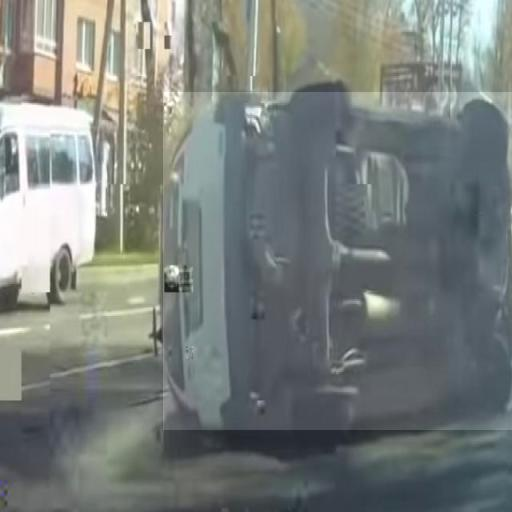小汽车: (163, 92, 512, 430), (0, 102, 94, 302)
